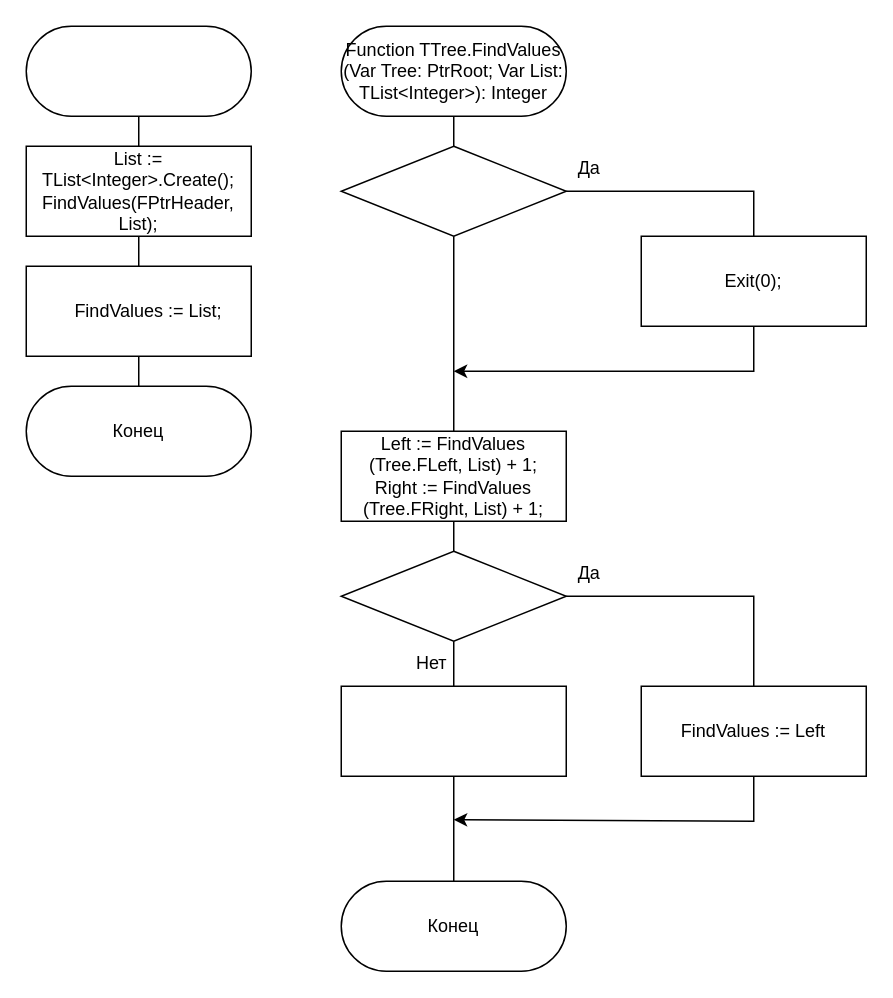
Image size: 893x998. Some labels were removed from this diagram. Each missing label, with the centre of its shape:
"FindValues := Right;" goes at pixel 453 730.
"Function TTree.FindValues: TList<Integer>" goes at pixel 138 70.
"Left <> Right" goes at pixel 453 595.
"Tree = Nil" goes at pixel 453 190.
